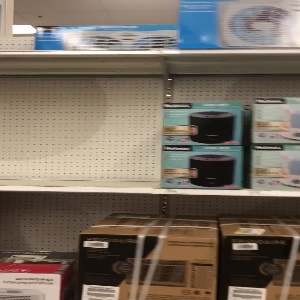void: (1, 59, 154, 190)
